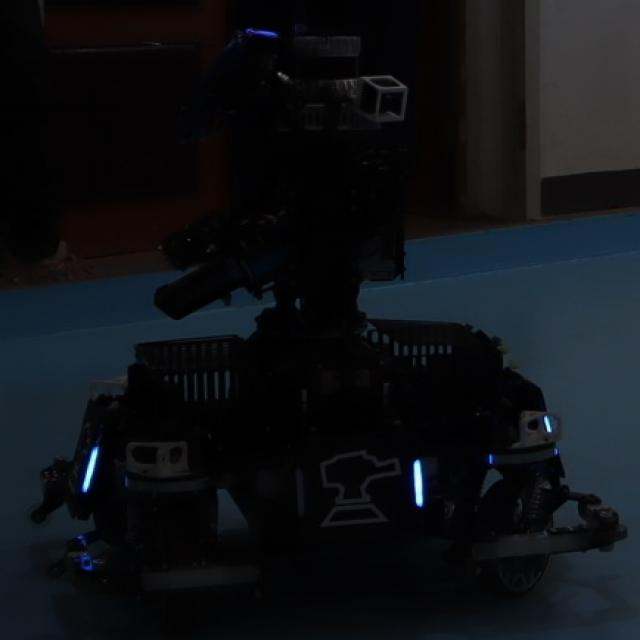Bs: (289, 440, 426, 532), (69, 418, 108, 504)
